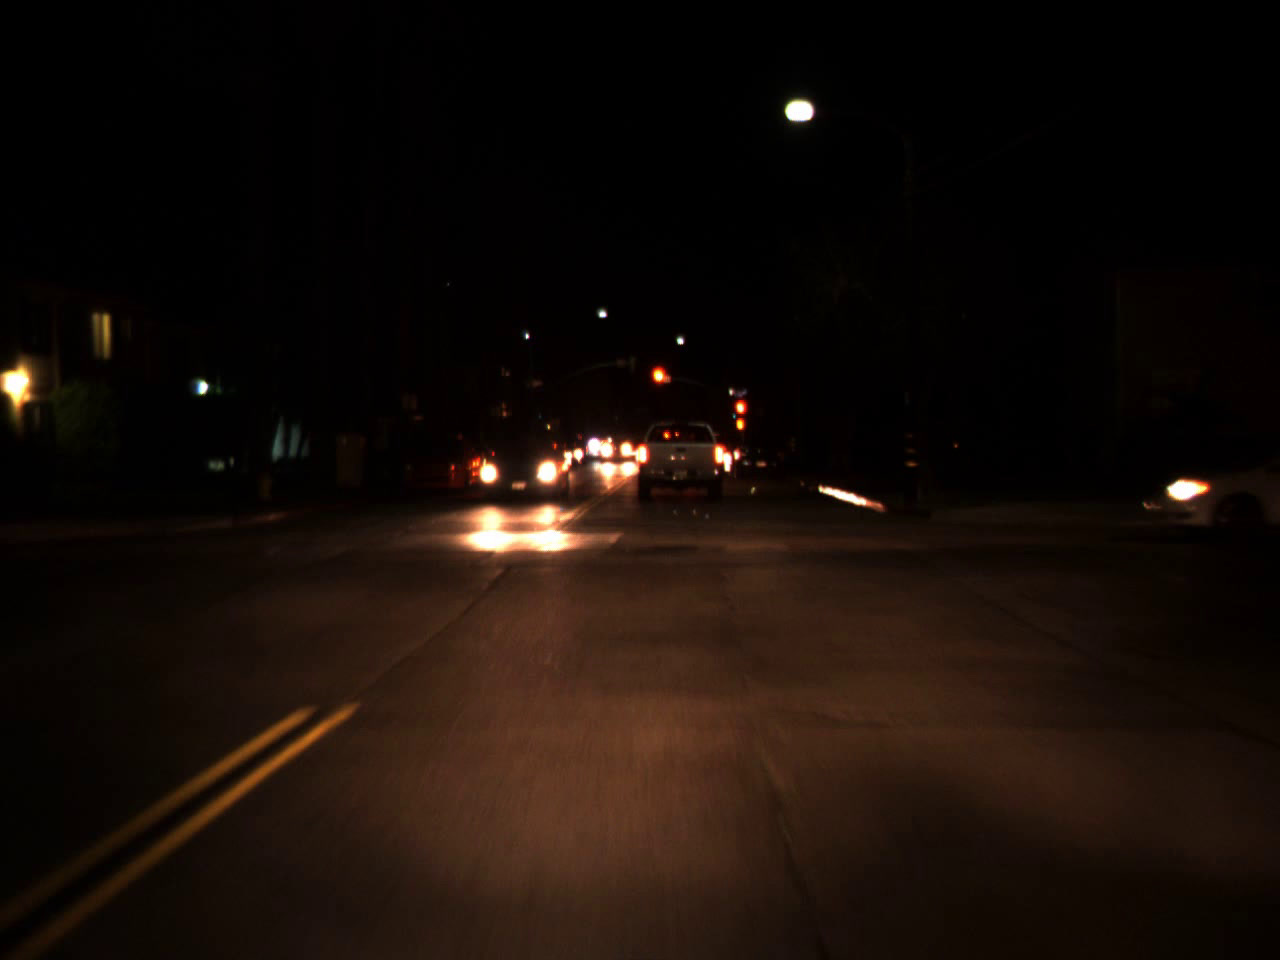stop: (649, 364, 671, 401), (733, 397, 748, 432)
